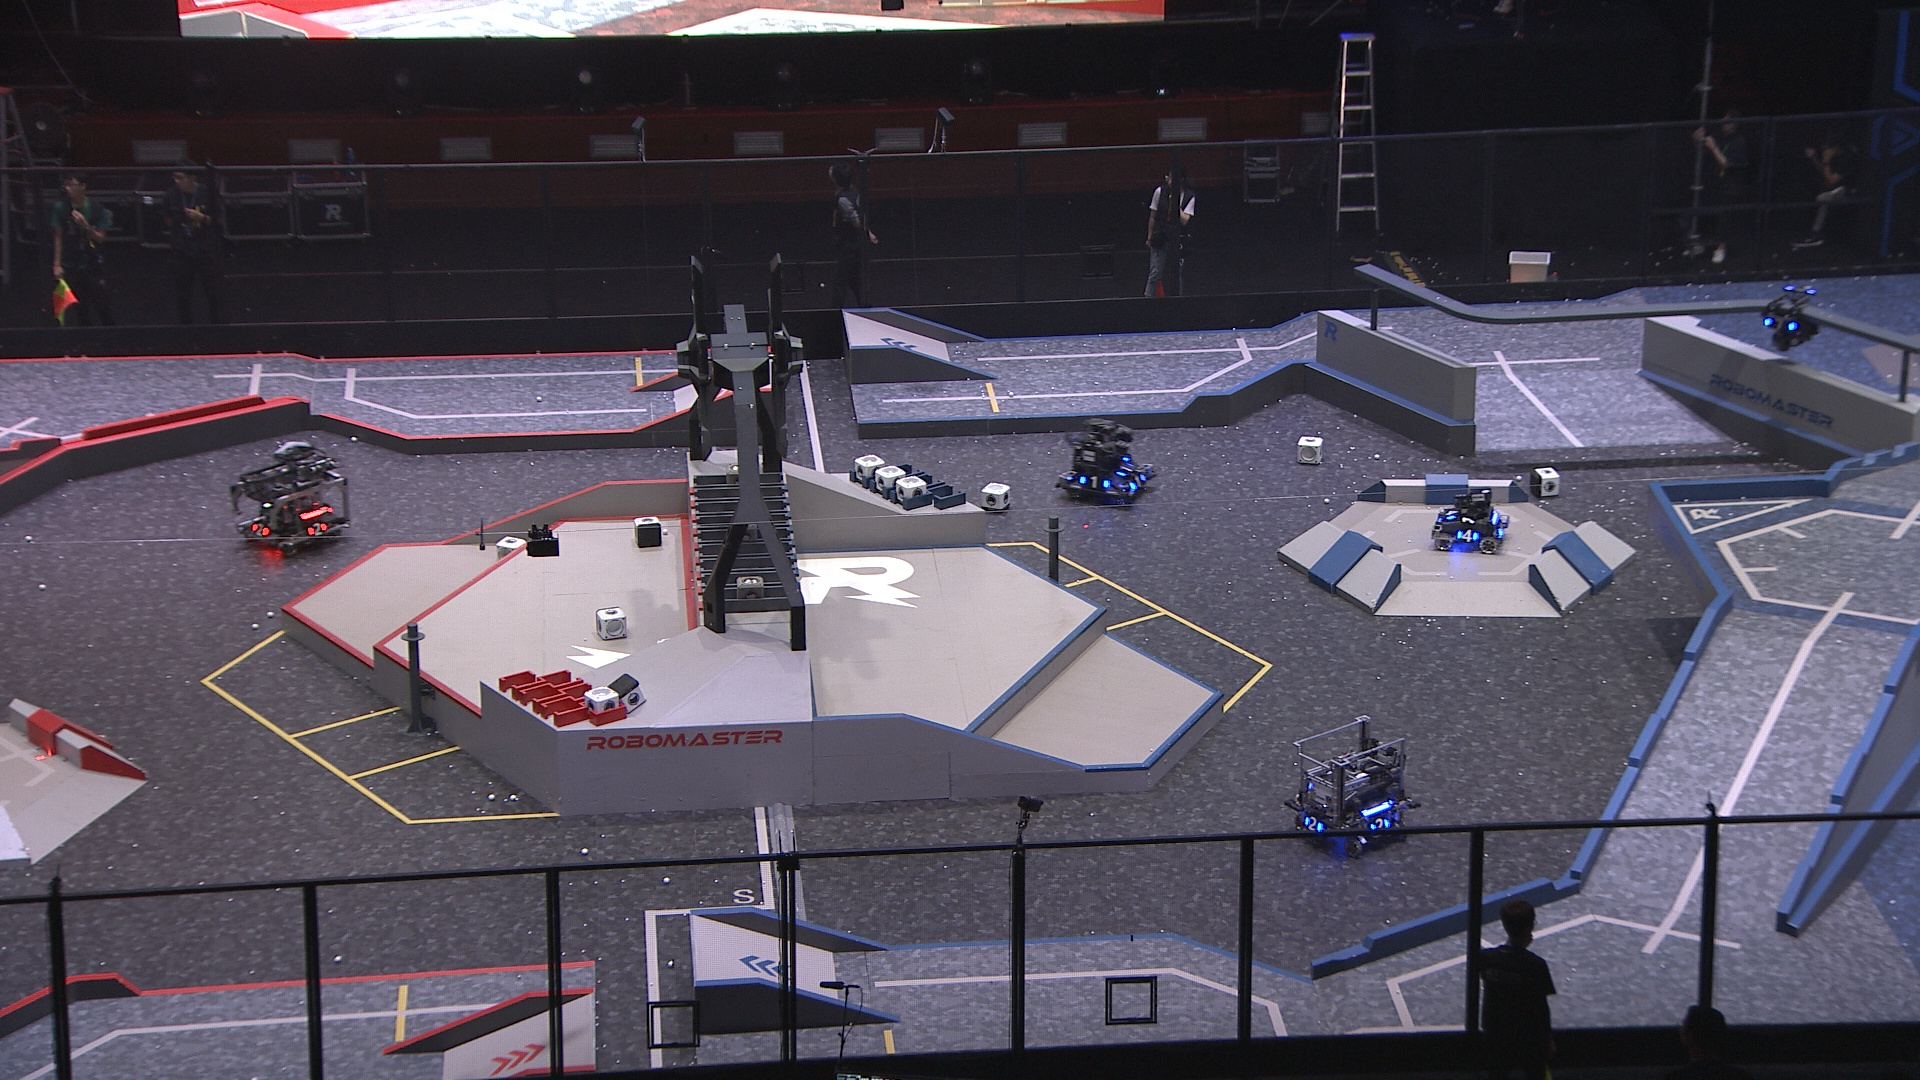armor: (1760, 315, 1797, 334), (1077, 472, 1112, 491), (1366, 815, 1393, 837), (249, 517, 272, 541), (1126, 469, 1149, 493), (1300, 812, 1325, 833), (1112, 458, 1138, 477), (1455, 524, 1481, 543), (309, 520, 328, 537), (1443, 502, 1458, 522)
car: (1284, 717, 1414, 864), (225, 438, 353, 560), (1054, 413, 1156, 509), (1427, 485, 1514, 556)
watcher: (1756, 278, 1820, 353)
